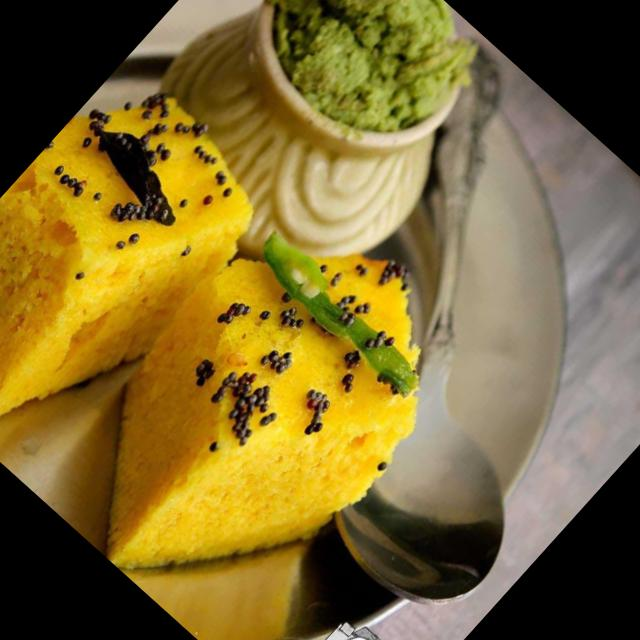dhokla: (0, 28, 529, 640)
